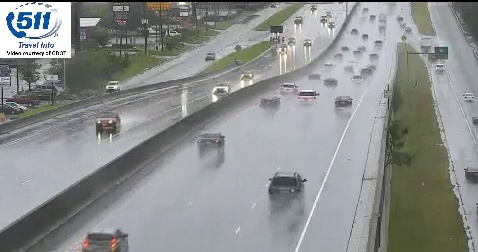car: (268, 172, 305, 200), (84, 229, 128, 252), (198, 132, 225, 149), (336, 96, 352, 108)
